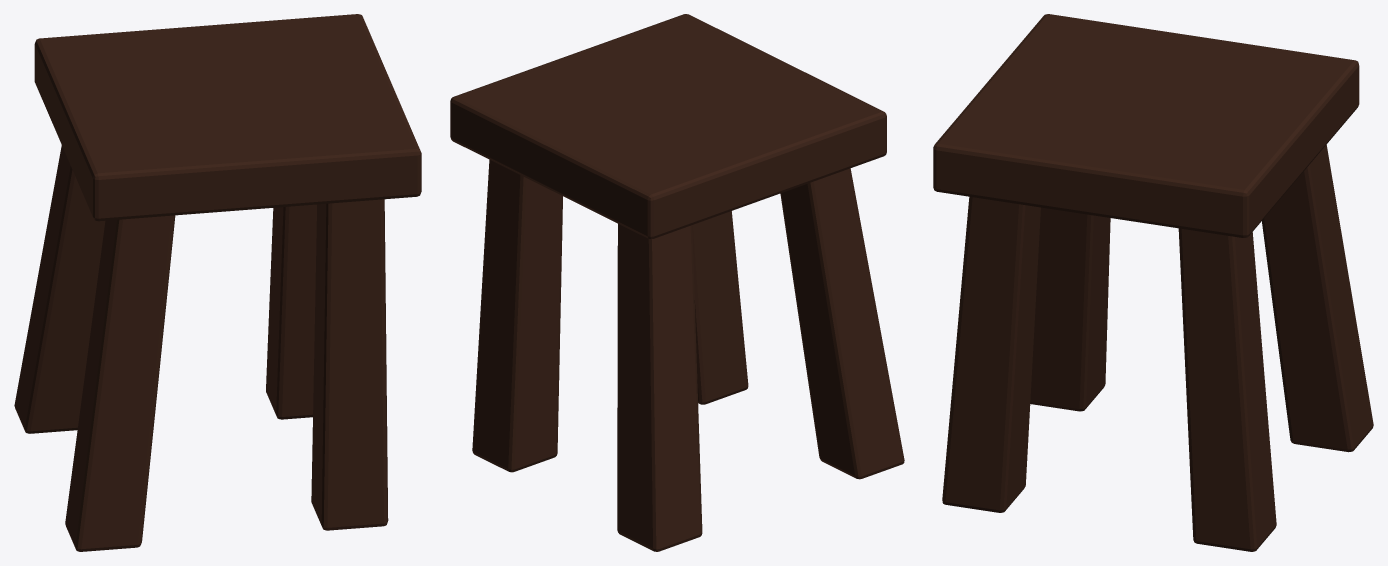
Rendered from Table.fbx.
The picture shows the model from 3 angles, left to right: view 1: azimuth 30°, elevation 25°; view 2: azimuth 150°, elevation 25°; view 3: azimuth 270°, elevation 25°; orthographic projection. The views are drawn at different scales.
Visible parts, largest first — view 1: Table; view 2: Table; view 3: Table.
Part boxes in pixels (<box>): Table: <box>14,14,421,551</box>; Table: <box>450,14,904,551</box>; Table: <box>933,14,1373,551</box>.
Bounding box in the file's own units: 979 × 907 × 964.
